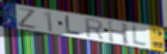1: (43, 11, 54, 33)
H: (107, 19, 131, 47)
L: (64, 14, 82, 36), (132, 24, 148, 48)
R: (83, 17, 105, 41)
Z: (17, 6, 37, 31)
